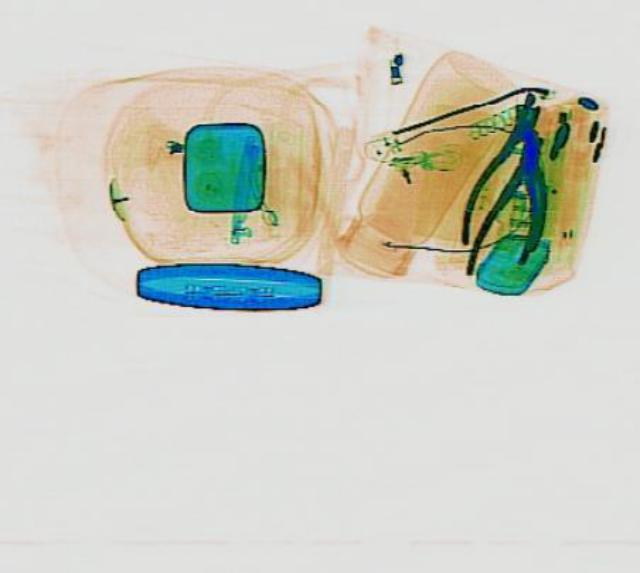Pliers: (452, 89, 562, 264), (460, 127, 564, 283)
